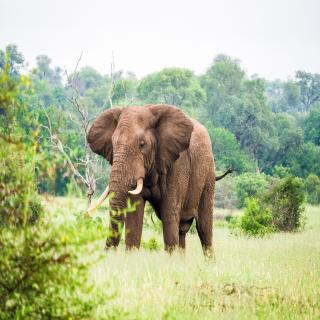Elephant: (86, 90, 242, 264)
